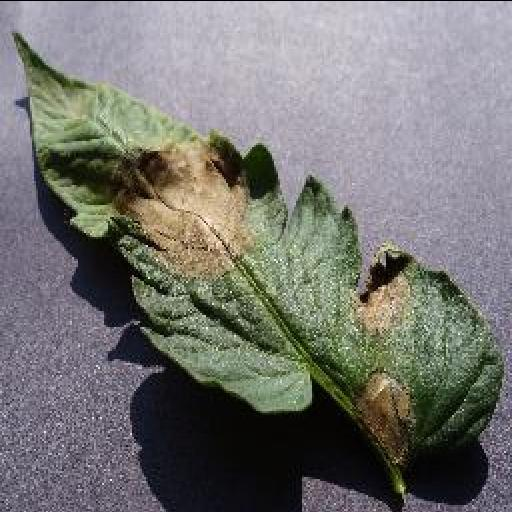disease_tomato: (10, 22, 512, 460)
